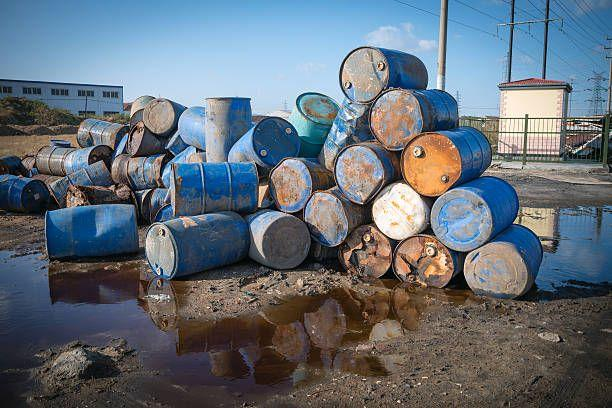metal: (146, 212, 252, 280), (433, 176, 519, 252), (403, 127, 490, 199), (464, 224, 544, 300), (370, 88, 458, 150), (45, 203, 138, 260), (341, 47, 433, 104), (166, 162, 259, 218), (332, 141, 402, 206), (320, 97, 376, 172), (244, 209, 309, 269), (393, 233, 461, 290), (308, 188, 374, 246), (371, 180, 433, 241), (231, 117, 298, 173), (269, 157, 336, 211), (337, 222, 395, 280), (287, 92, 338, 156), (204, 98, 252, 164), (113, 153, 169, 191), (58, 146, 115, 180), (142, 98, 189, 138), (1, 174, 48, 214), (77, 118, 128, 151), (125, 120, 168, 157), (34, 145, 80, 176), (165, 145, 201, 184), (139, 188, 170, 224), (127, 96, 158, 119), (0, 155, 26, 177), (128, 108, 146, 132)
